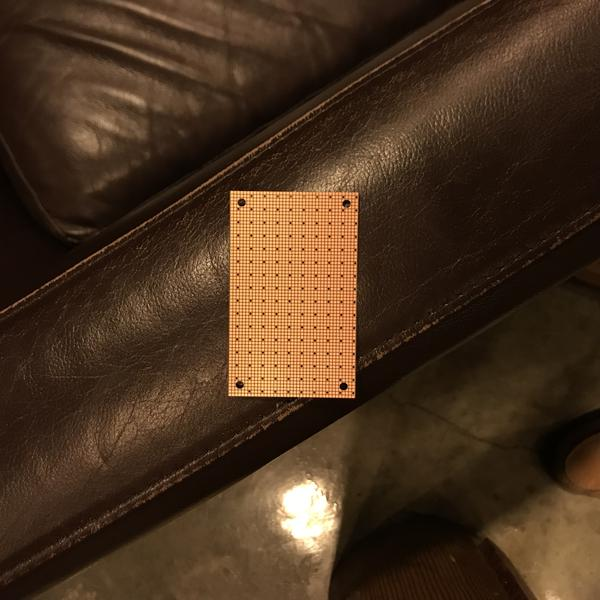board: (225, 188, 360, 401)
